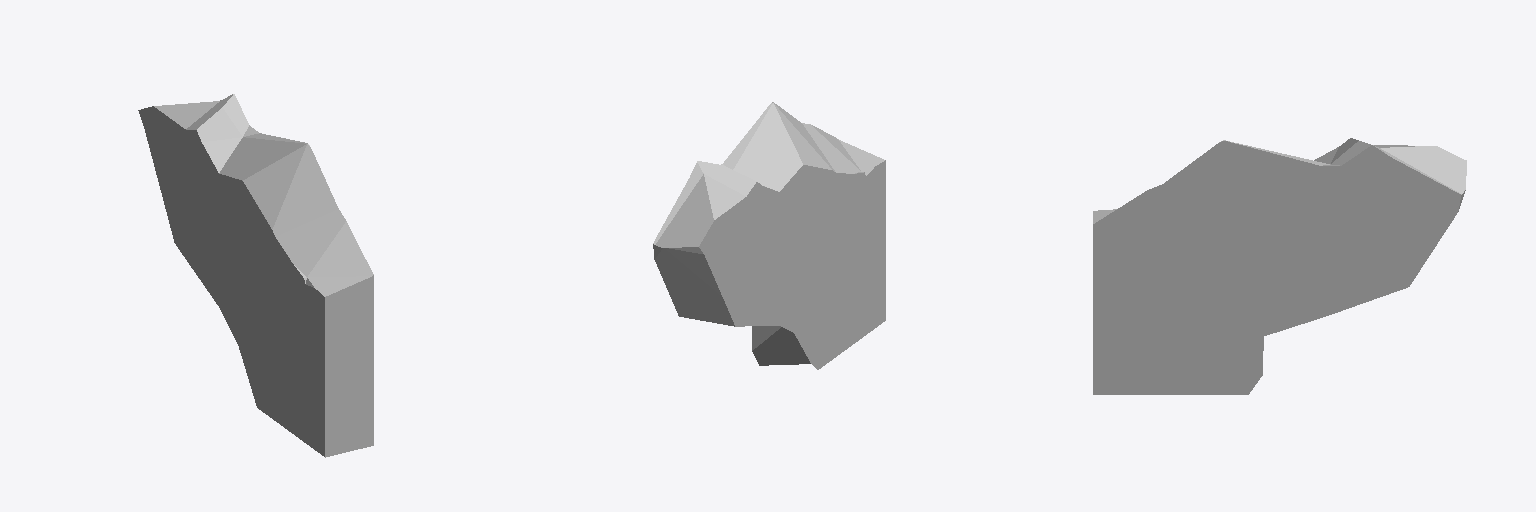
File: broken_wall_04.obj
3 renders of one model, left to right at view 1: azimuth 30°, elevation 25°; view 2: azimuth 150°, elevation 25°; view 3: azimuth 270°, elevation 25°, orthographic.
Visible parts, largest first — view 1: Cube.009_Cube.017; view 2: Cube.009_Cube.017; view 3: Cube.009_Cube.017.
Part boxes in pixels (x1,y1,x2,y2): Cube.009_Cube.017: (138, 94, 373, 457); Cube.009_Cube.017: (653, 102, 885, 369); Cube.009_Cube.017: (1093, 138, 1466, 394).
Bounding box in the file's own units: 0.5 × 2.5 × 3.33.